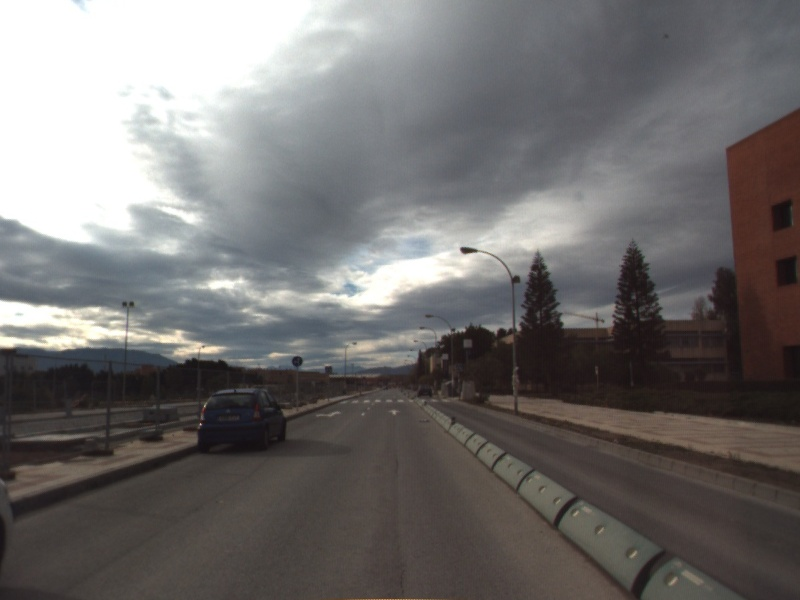STRAIGHT: (386, 407, 403, 417)
STRAIGHT_LEFT: (313, 408, 344, 420)
